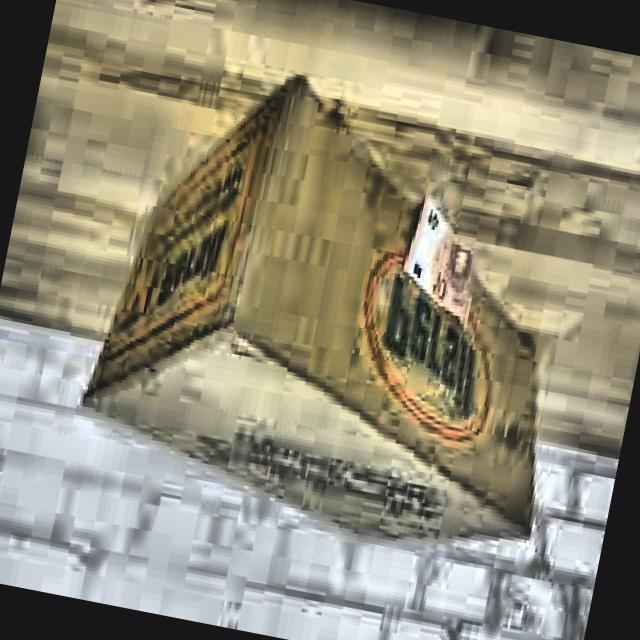cardboard: (63, 49, 608, 580)
